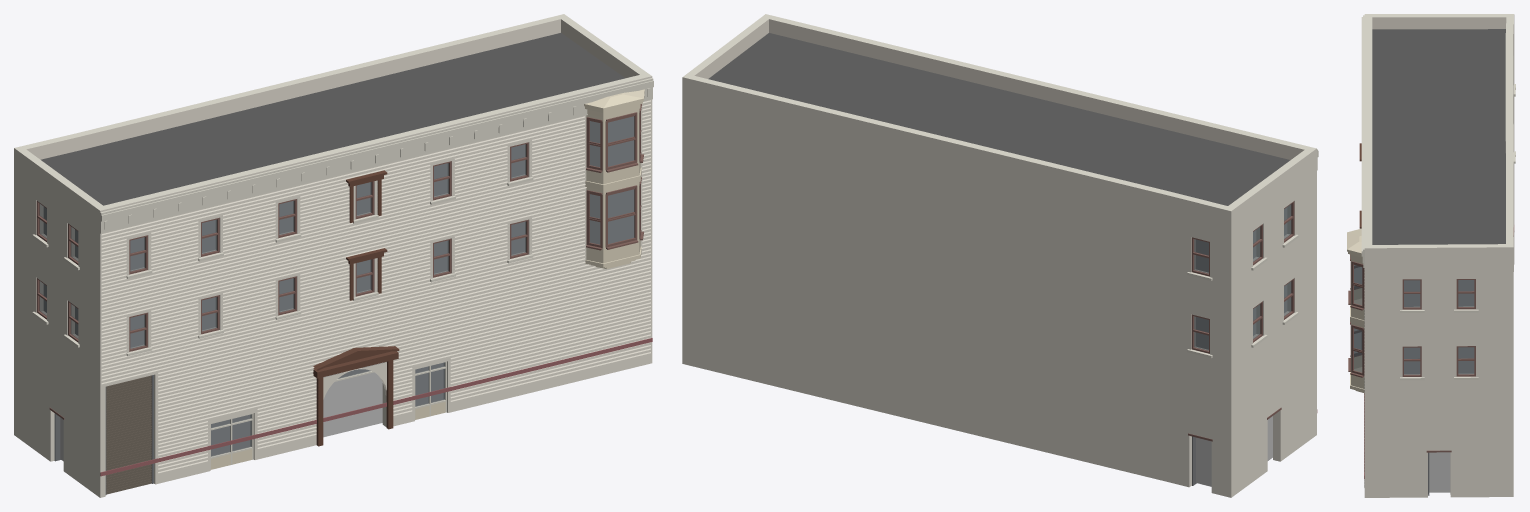
File: exterior.glb
3 renders of one model, left to right at view 1: azimuth 30°, elevation 25°; view 2: azimuth 150°, elevation 25°; view 3: azimuth 270°, elevation 25°, orthographic. The views are drawn at different scales.
Parts seen in each view (by area): view 1: shell, hyD-lap-1, roof, trim, shadow-proxy, glazing, storefront, hand-ornament, bay-glazing-hyb, frames, bay-windows-hyb; view 2: shell, roof, shadow-proxy, glazing, frames; view 3: shell, roof, shadow-proxy, glazing, bay-glazing-hyb, trim, bay-windows-hyb, frames, hyD-lap-1.
Part boxes in pixels (<box>): shell: <box>14,14,652,497</box>; hyD-lap-1: <box>101,100,650,473</box>; roof: <box>41,33,624,205</box>; trim: <box>32,78,653,356</box>; shadow-proxy: <box>44,116,633,461</box>; glazing: <box>39,144,525,456</box>; storefront: <box>49,361,446,494</box>; hand-ornament: <box>100,170,652,476</box>; bay-glazing-hyb: <box>586,104,643,250</box>; frames: <box>36,142,528,351</box>; bay-windows-hyb: <box>584,89,644,269</box>; shell: <box>682,14,1316,497</box>; roof: <box>708,33,1290,205</box>; shadow-proxy: <box>1196,207,1286,486</box>; glazing: <box>1194,204,1291,350</box>; frames: <box>1191,201,1294,353</box>; shell: <box>1364,14,1514,497</box>; roof: <box>1372,29,1505,244</box>; shadow-proxy: <box>1404,280,1473,492</box>; glazing: <box>1404,280,1474,374</box>; bay-glazing-hyb: <box>1348,254,1364,377</box>; trim: <box>1361,15,1515,380</box>; bay-windows-hyb: <box>1347,228,1364,392</box>; frames: <box>1402,279,1475,376</box>; hyD-lap-1: <box>1364,268,1364,487</box>.
Size of the model in its own units: 24.61 by 12.15 by 7.45.
